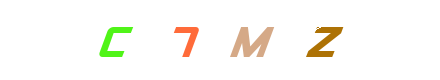7: (179, 0, 259, 80)
C: (73, 0, 153, 80)
M: (208, 0, 288, 80)
Z: (233, 0, 313, 80)
